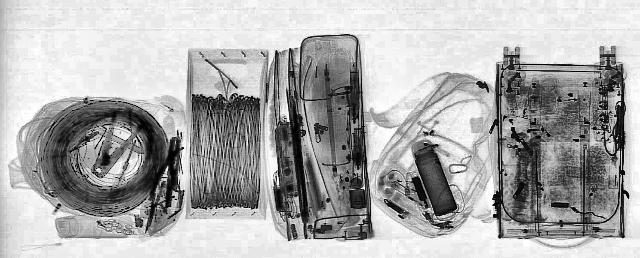Pliers: (75, 118, 149, 178)
